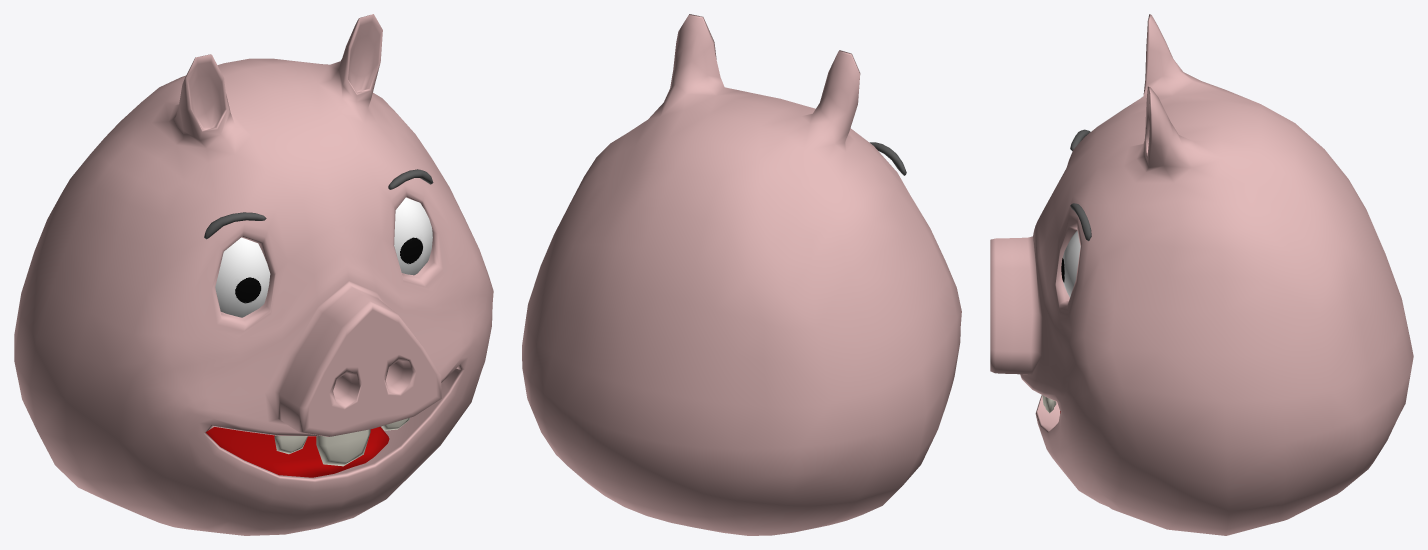
Rendered from piggy1.fbx.
3 views of the same model, side by side, from view 1: azimuth 30°, elevation 25°; view 2: azimuth 150°, elevation 25°; view 3: azimuth 270°, elevation 25° (orthographic). The views are drawn at different scales.
Parts seen in each view (by area): view 1: pCube1, pCube4, pasted__pSphere1, pSphere1, pasted__pCube2, pasted__pCube4; view 2: pCube1; view 3: pCube1, pSphere1.
Part boxes in pixels (left/top/right/bottom): pCube1: left=14, top=14, right=493, bottom=535; pCube4: left=206, top=426, right=389, bottom=477; pasted__pSphere1: left=215, top=237, right=270, bottom=317; pSphere1: left=394, top=197, right=432, bottom=275; pasted__pCube2: left=316, top=429, right=370, bottom=466; pasted__pCube4: left=204, top=212, right=266, bottom=239; pCube1: left=522, top=14, right=961, bottom=535; pCube1: left=990, top=14, right=1413, bottom=535; pSphere1: left=1061, top=230, right=1080, bottom=297.
Size of what is drawn, in the model's own units: 1.13 by 1.27 by 1.07.
